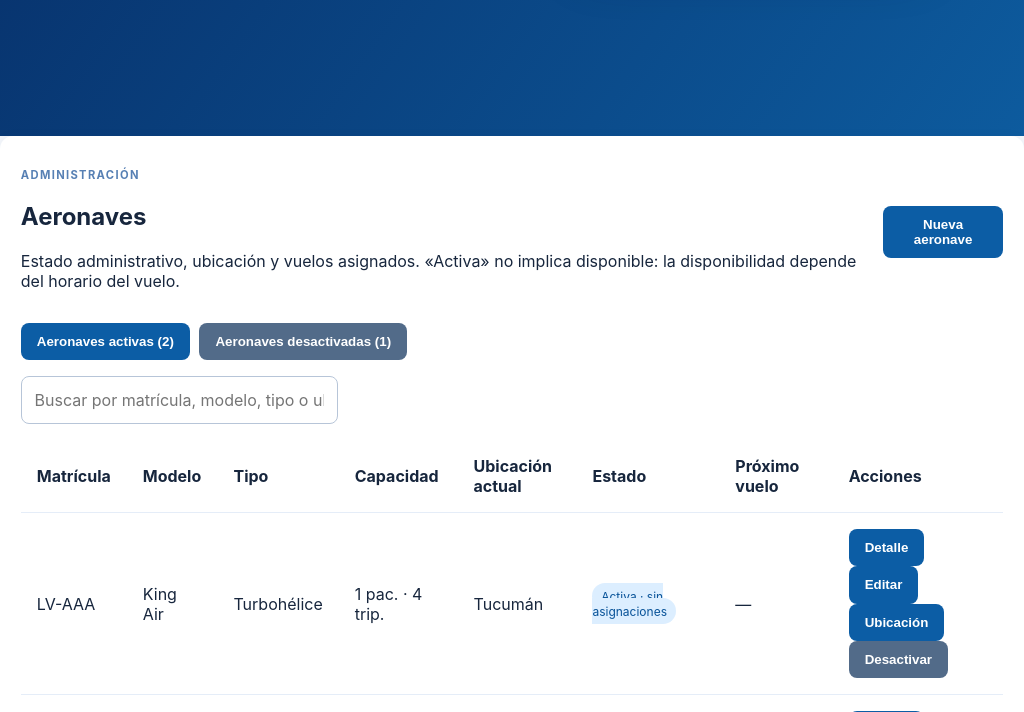
separa aeronaves activas de desactivadas, muestra el estado operativo y el estado vacío
(page scrolled)
Expected: the button "Aeronaves activas (2)" is shown, [21,323,190,360]
Expected: the text "LV-AAA" is shown, [21,512,127,695]
Click the button "Aeronaves desactivadas (1)".
click(303, 342)  # box [200,323,407,360]
(page scrolled)
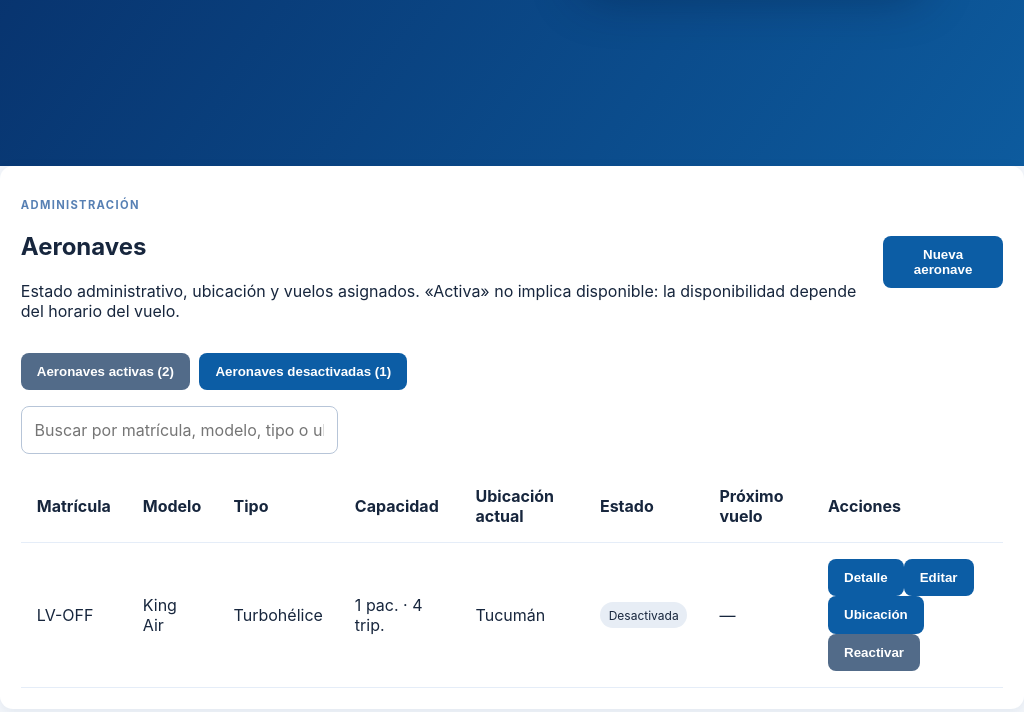
Expected: the text "LV-OFF" is shown, [21,542,127,687]
Expected: the text "Desactivada" is shown, [600,602,687,628]
Expected: the button "Reactivar" is shown, [828,634,920,671]
Type "zzz" into the field named "Buscar aeronave".
click(179, 430); type("zzz")  # box [21,406,338,454]
(page scrolled)
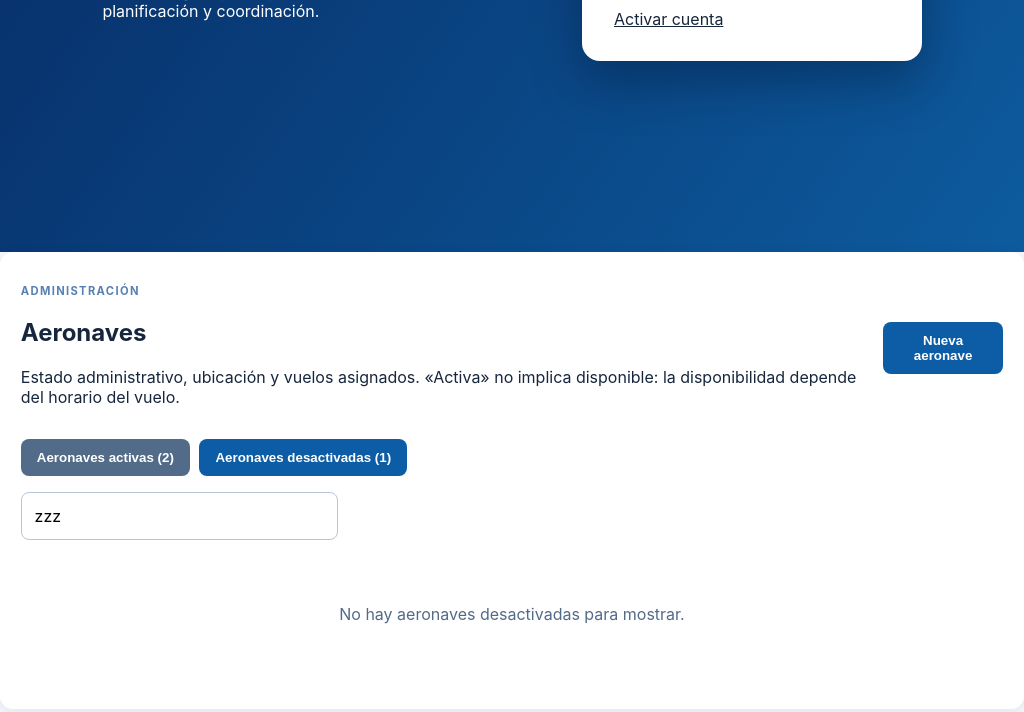
Expected: the text "No hay aeronaves desactivadas para mostrar." is shown, [339,604,685,624]
